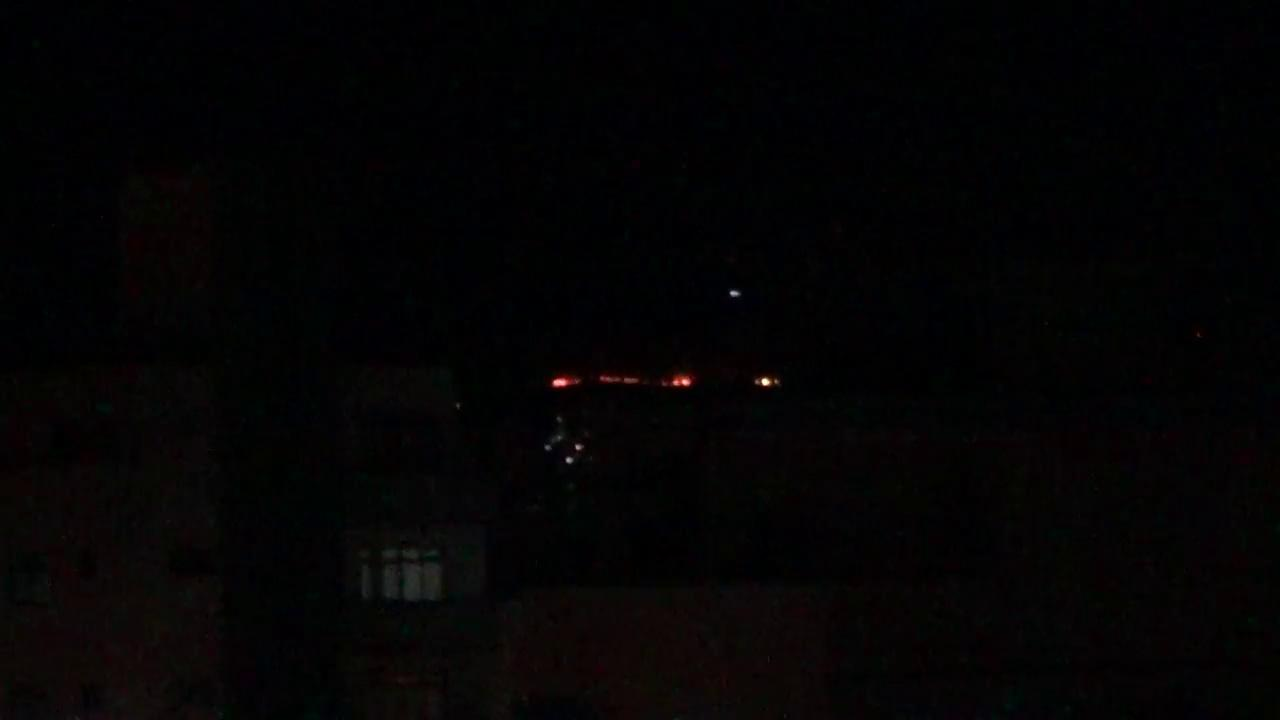fire: (756, 374, 782, 390), (667, 374, 689, 388), (551, 376, 576, 387)
